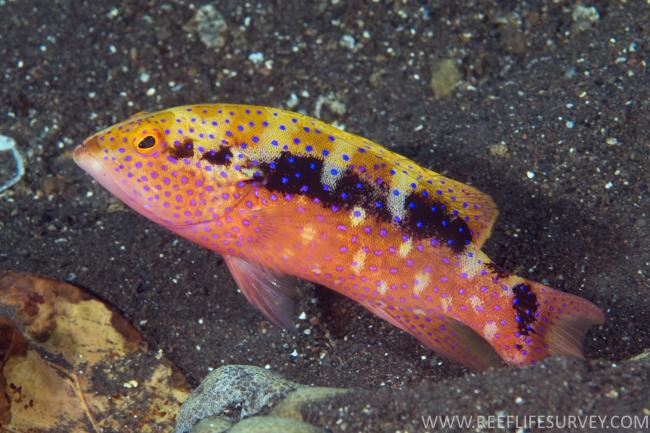fish: (71, 101, 605, 373)
